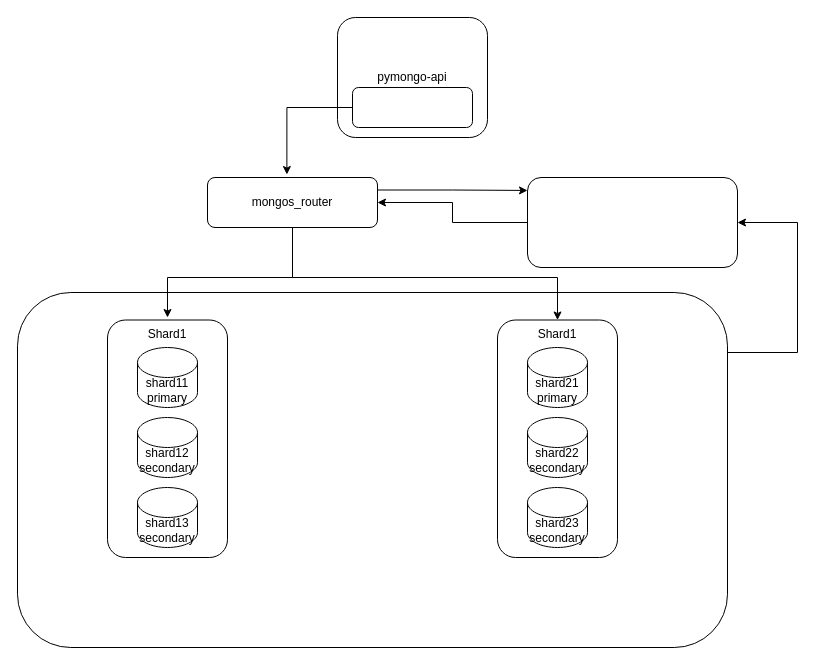
This 823x665 diagram has some shape labels left out. Here are the shapes that lost their labels. From the top down, the box of each, then its label:
(352, 86, 472, 128): driver
(526, 176, 738, 268): configSrv
